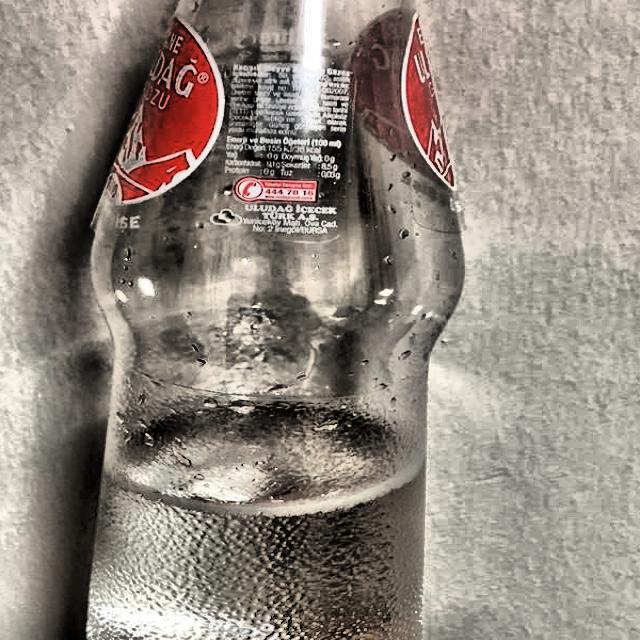plastic: (87, 0, 469, 640)
